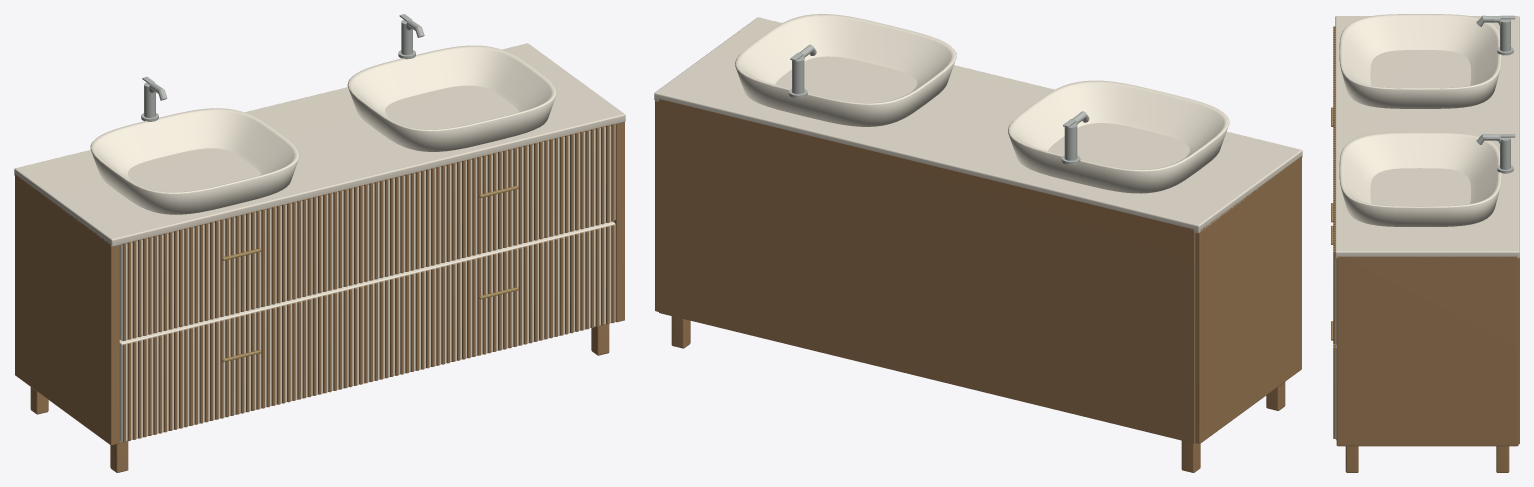
File: reed-double-vanity.glb
3 renders of one model, left to right at view 1: azimuth 30°, elevation 25°; view 2: azimuth 150°, elevation 25°; view 3: azimuth 270°, elevation 25°, orthographic. The views are drawn at different scales.
Visible parts, largest first — view 1: reed-double-vanity authored assembly; view 2: reed-double-vanity authored assembly; view 3: reed-double-vanity authored assembly.
Part boxes in pixels (<box>): reed-double-vanity authored assembly: <box>14,14,625,472</box>; reed-double-vanity authored assembly: <box>654,14,1302,472</box>; reed-double-vanity authored assembly: <box>1331,14,1519,472</box>.
Bounding box in the file's own units: 1.6 × 0.9 × 0.54.
